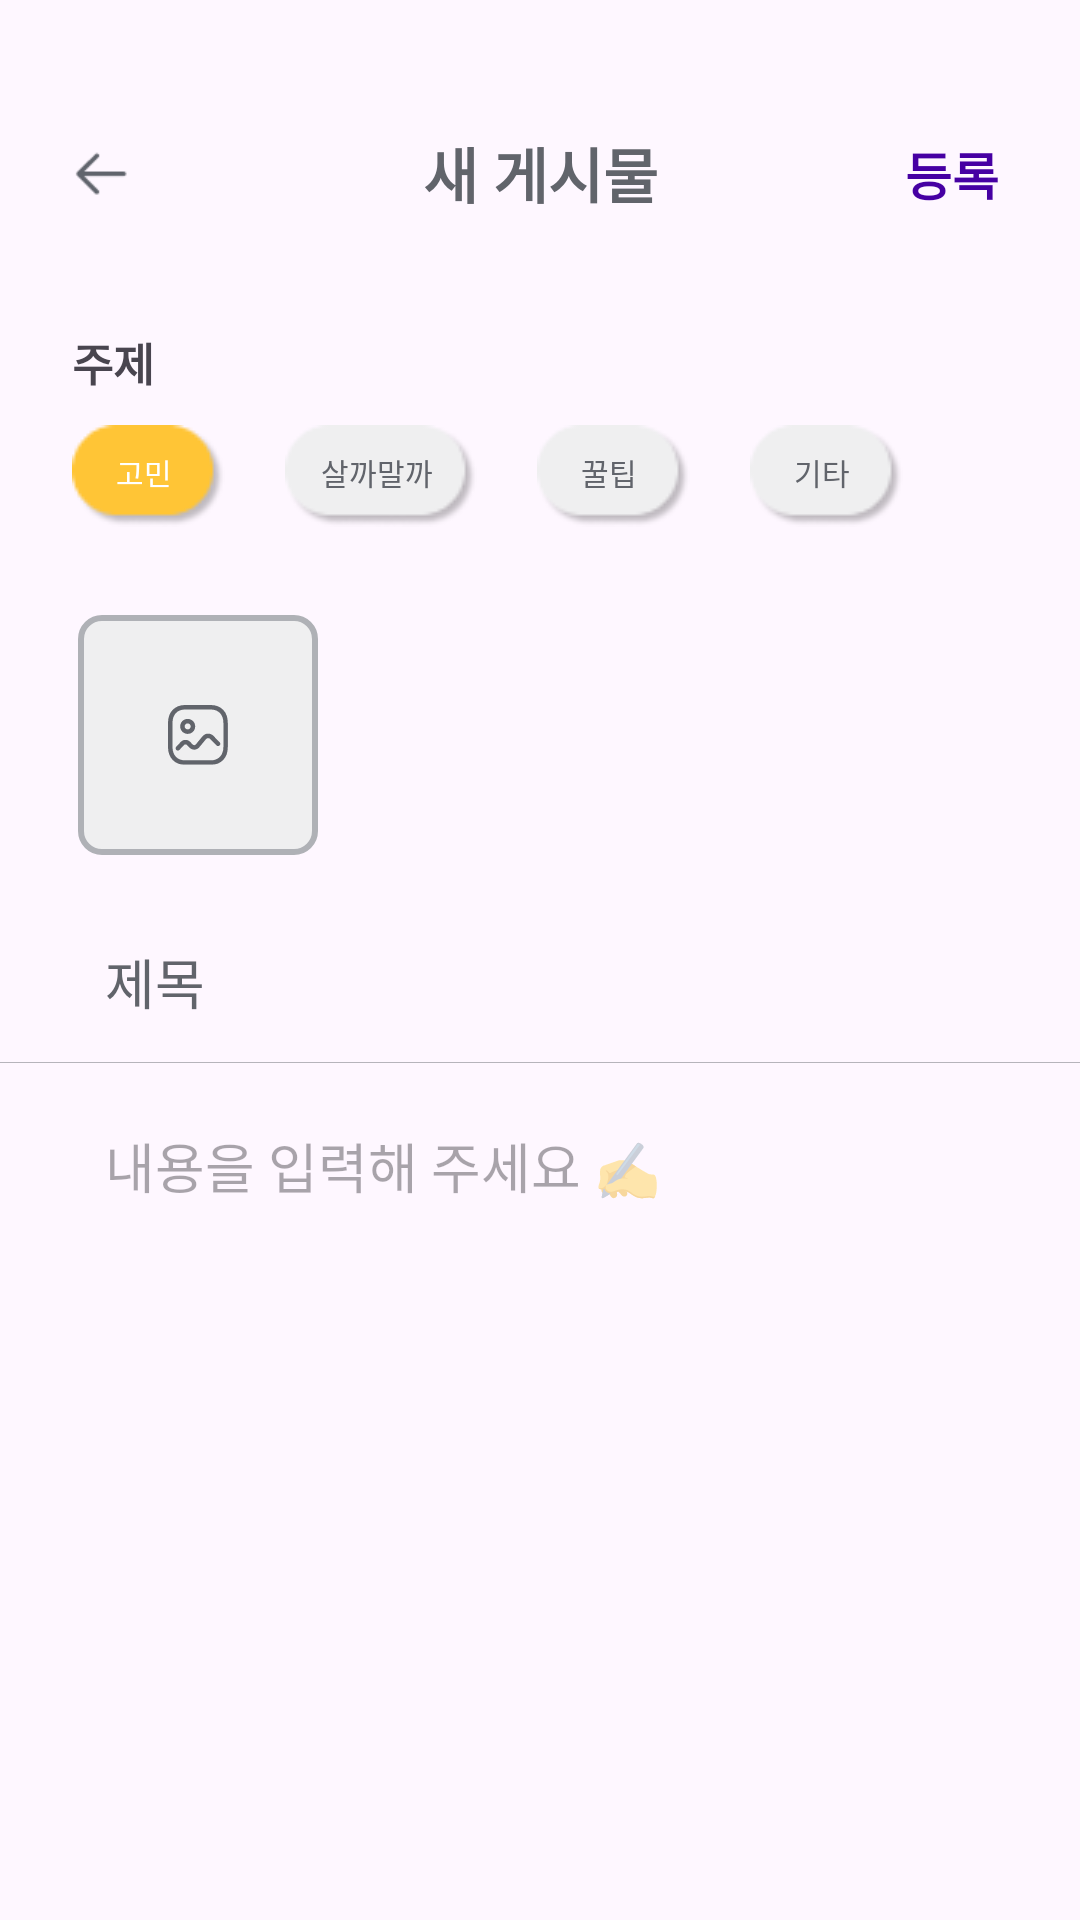

Icon click points for this 1080px x 1920px phone screenshot, format (x=x, y=y):
upload: (x=198, y=735)
